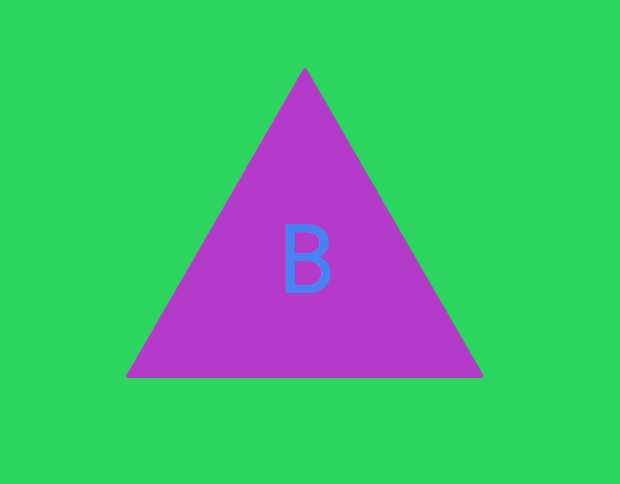B: (264, 212, 346, 315)
triangle: (117, 65, 496, 385)
